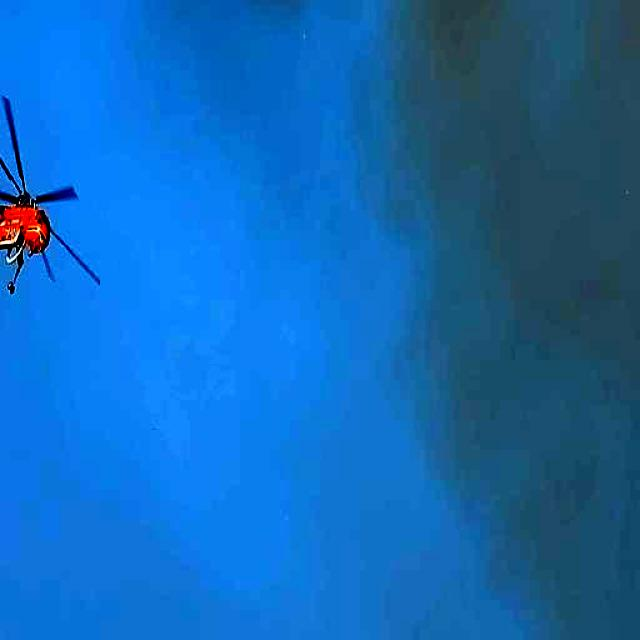drone: (0, 92, 102, 295)
